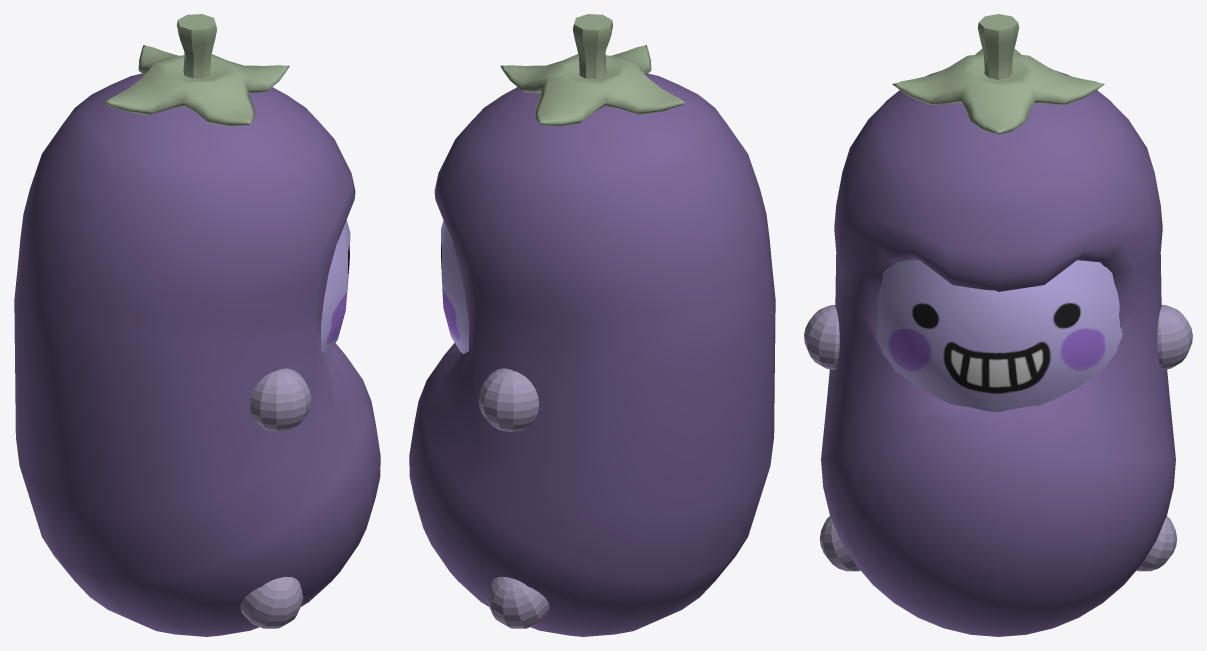
File: jamamon.fbx
3 renders of one model, left to right at view 1: azimuth 30°, elevation 25°; view 2: azimuth 150°, elevation 25°; view 3: azimuth 270°, elevation 25°, orthographic.
Visible parts, largest first — view 1: polySurface129; view 2: polySurface129; view 3: polySurface129.
Part boxes in pixels (left/top/right/bottom): polySurface129: left=14, top=14, right=380, bottom=636; polySurface129: left=409, top=14, right=775, bottom=636; polySurface129: left=804, top=14, right=1192, bottom=636.
Size of the model in its own units: 2.24 by 4 by 2.37.
